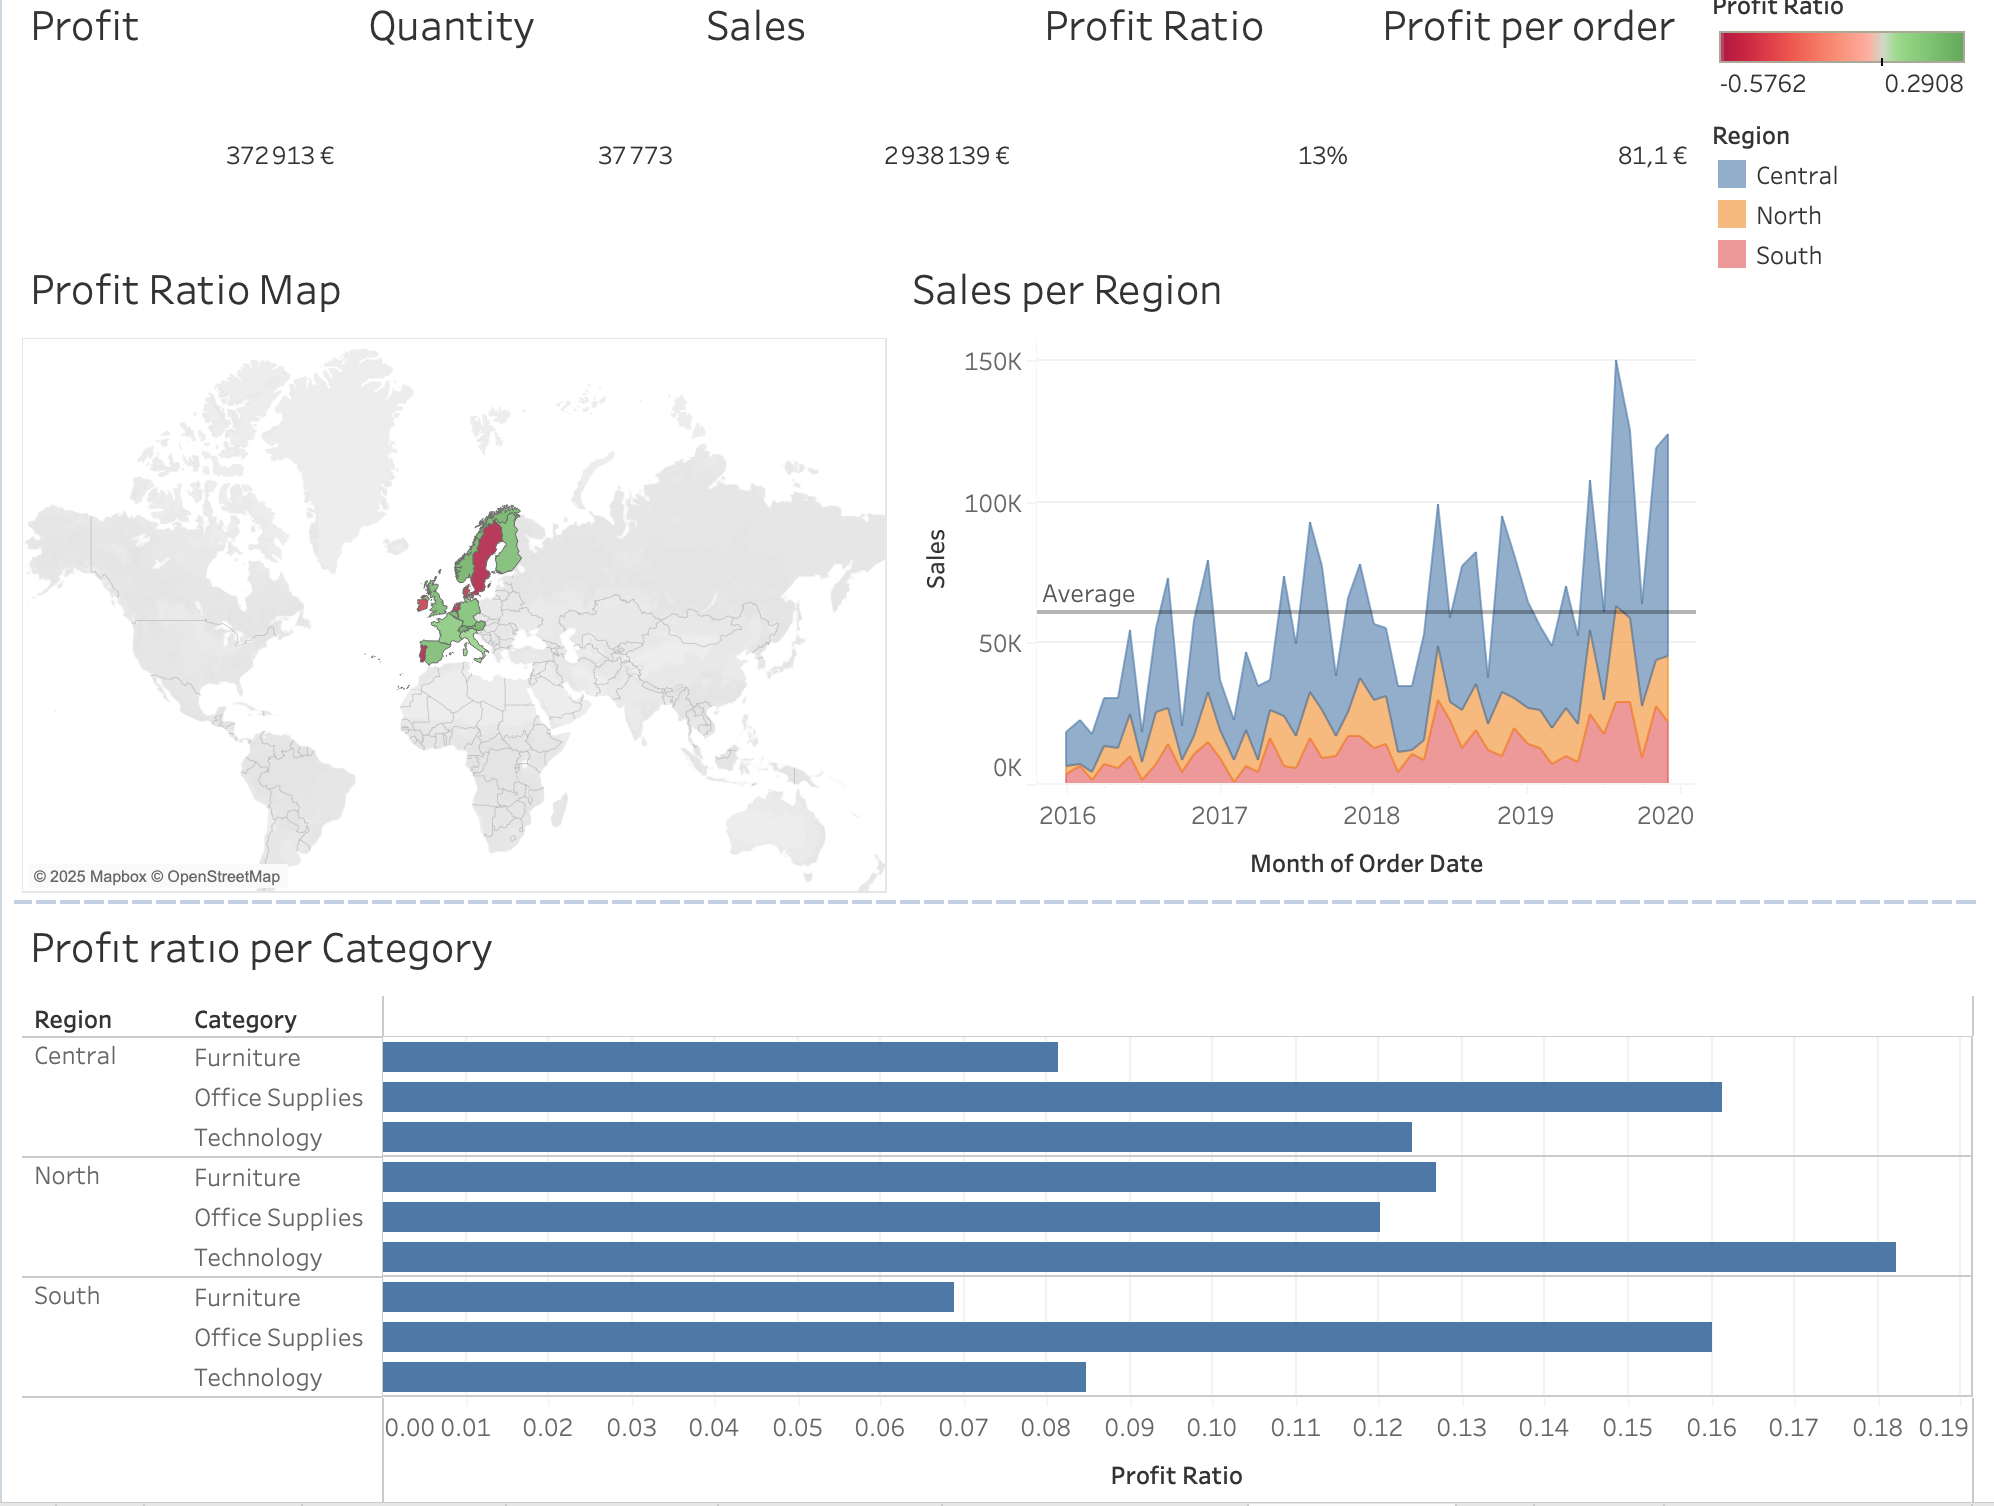

Layout of this report page (visuals, bound fields, positions):
{"tool":"tableau","page":{"name":"Dashboard 1","canvas":[1000,800],"ordinal":0},"visuals":[{"type":"worksheet","title":"Profit","mark":"Automatic","box":[8,8,169,132]},{"type":"worksheet","title":"Quantity","mark":"Automatic","box":[177,8,169,132]},{"type":"worksheet","title":"Sales","mark":"Automatic","box":[346,8,169,132]},{"type":"worksheet","title":"Profit Ratio","mark":"Automatic","box":[515,8,169,132]},{"type":"worksheet","title":"Profit per order","mark":"Automatic","box":[684,8,169,132]},{"type":"legend","title":"Profit Ratio Map","param":"[federated.08kdxyn1b5z4ll1fxz5k60clixa7].[usr:Calculation_1267200406659919872:qk","box":[853,8,139,65]},{"type":"legend","title":"Sales per Region ","param":"[federated.08kdxyn1b5z4ll1fxz5k60clixa7].[none:Region:nk]","box":[853,73,139,86]},{"type":"worksheet","title":"Profit Ratio Map","mark":"Automatic","box":[8,140,440.5,329]},{"type":"worksheet","title":"Sales per Region ","mark":"Area","rows":["Sales"],"cols":["Order Date"],"box":[448.5,140,404.5,329]},{"type":"worksheet","title":"Profıt ratıo per Category","mark":"Automatic","rows":["Region","Category"],"cols":["Calculation_1267200406659919872"],"box":[8,469,984,323]}]}

Visuals, with their boxes on the page's 1000x800 design canvas (x1, y1, x2, y2). These are canvas units, not pixel positions in the 1994x1506 screenshot, which may show the page scaled, cropped or inside an application window:
"Profit" worksheet: l=8, t=8, r=177, b=140
"Quantity" worksheet: l=177, t=8, r=346, b=140
"Sales" worksheet: l=346, t=8, r=515, b=140
"Profit Ratio" worksheet: l=515, t=8, r=684, b=140
"Profit per order" worksheet: l=684, t=8, r=853, b=140
"Profit Ratio Map" legend: l=853, t=8, r=992, b=73
"Sales per Region " legend: l=853, t=73, r=992, b=159
"Profit Ratio Map" worksheet: l=8, t=140, r=448, b=469
"Sales per Region " worksheet (Area marks): l=448, t=140, r=853, b=469
"Profıt ratıo per Category" worksheet: l=8, t=469, r=992, b=792
